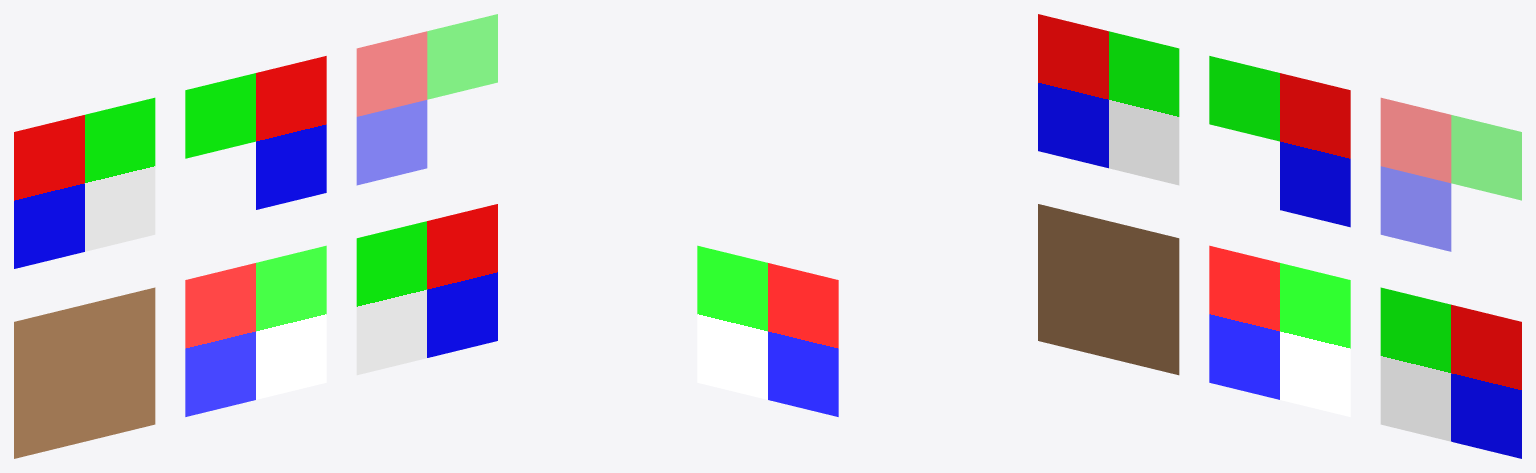
The model's file is diagnostics.glb.
The picture shows the model from 3 angles, left to right: view 1: azimuth 30°, elevation 25°; view 2: azimuth 150°, elevation 25°; view 3: azimuth 330°, elevation 25°; orthographic projection.
Visible parts, largest first — view 1: PBR MR + AO UV1, PBR emissive, double-sided, unlit UV0 OPAQUE, mirrored, single-sided, unlit BLEND, unlit UV1 MASK; view 2: PBR emissive, double-sided; view 3: unlit UV0 OPAQUE, mirrored, single-sided, PBR emissive, double-sided, PBR MR + AO UV1, unlit BLEND, unlit UV1 MASK.
Part boxes in pixels (<box>): PBR MR + AO UV1: <box>14,287,155,458</box>; PBR emissive, double-sided: <box>185,245,326,416</box>; unlit UV0 OPAQUE: <box>14,97,155,268</box>; mirrored, single-sided: <box>356,204,497,375</box>; unlit BLEND: <box>356,14,497,185</box>; unlit UV1 MASK: <box>185,56,326,209</box>; PBR emissive, double-sided: <box>697,245,838,416</box>; unlit UV0 OPAQUE: <box>1038,14,1179,185</box>; mirrored, single-sided: <box>1380,287,1521,458</box>; PBR emissive, double-sided: <box>1209,245,1350,416</box>; PBR MR + AO UV1: <box>1038,204,1179,375</box>; unlit BLEND: <box>1380,98,1521,251</box>; unlit UV1 MASK: <box>1209,56,1350,227</box>.
Size of the model in its own units: 4.8 by 3.1 by 0.
Materials: 6 (4 with a texture image).
